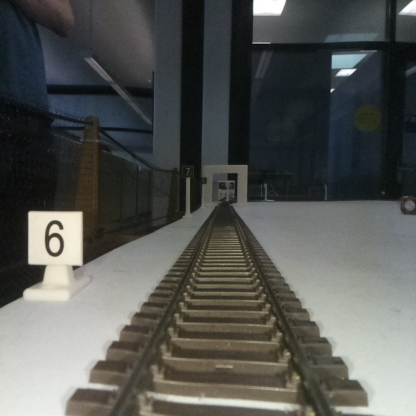black-info-7: (183, 164, 193, 216)
white-stop-6: (28, 210, 82, 298)
